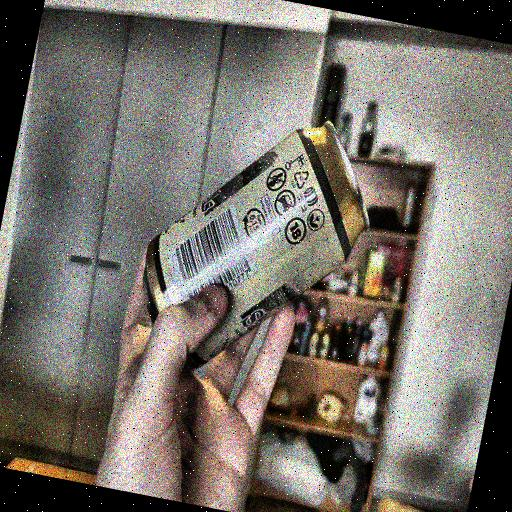sandels: (120, 88, 393, 382)
